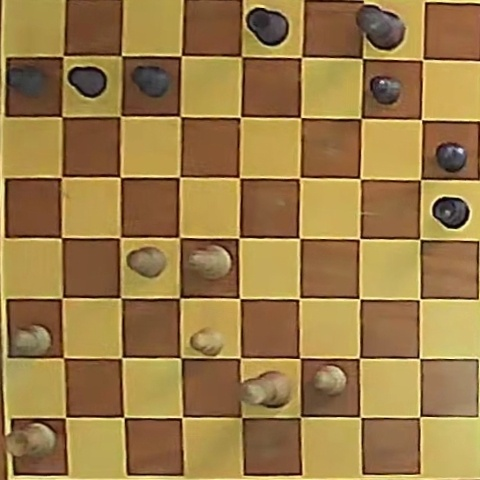black-king: (355, 5, 405, 50)
black-pawn: (68, 66, 108, 99), (132, 65, 170, 98), (8, 65, 46, 97), (435, 142, 467, 173), (370, 76, 402, 105)
black-rook: (246, 7, 289, 47), (431, 196, 469, 229)
white-bishop: (187, 245, 232, 279)
white-king: (241, 371, 290, 407)
white-pawn: (12, 325, 52, 356), (127, 247, 166, 278), (313, 365, 346, 395), (190, 327, 224, 356)
white-rook: (7, 422, 57, 459)
